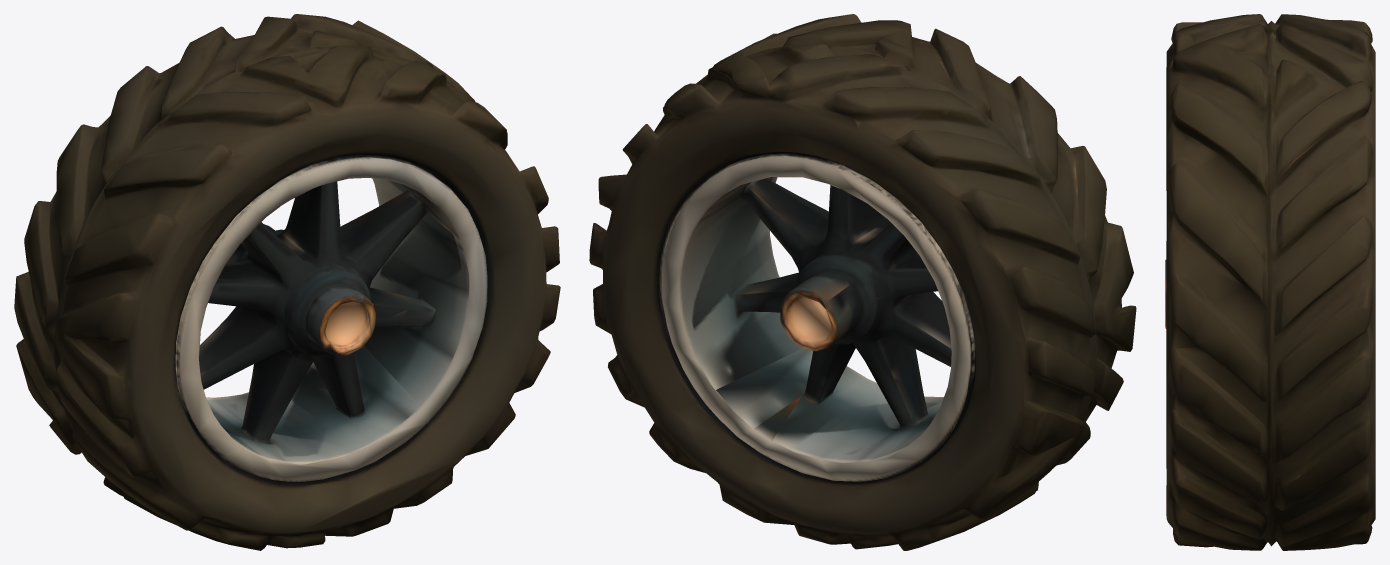
File: track_wheel.fbx
The picture shows the model from 3 angles, left to right: view 1: azimuth 30°, elevation 25°; view 2: azimuth 150°, elevation 25°; view 3: azimuth 270°, elevation 25°; orthographic projection. The views are drawn at different scales.
Parts seen in each view (by area): view 1: node_0.003; view 2: node_0.003; view 3: node_0.003.
Boxes of the visible parts, bbox=[...] form: node_0.003: bbox=[14, 14, 560, 550]; node_0.003: bbox=[589, 14, 1136, 550]; node_0.003: bbox=[1165, 14, 1375, 550].
Size of the model in its own units: 40.74 by 38.58 by 15.26.
1 material, 1 textured.
